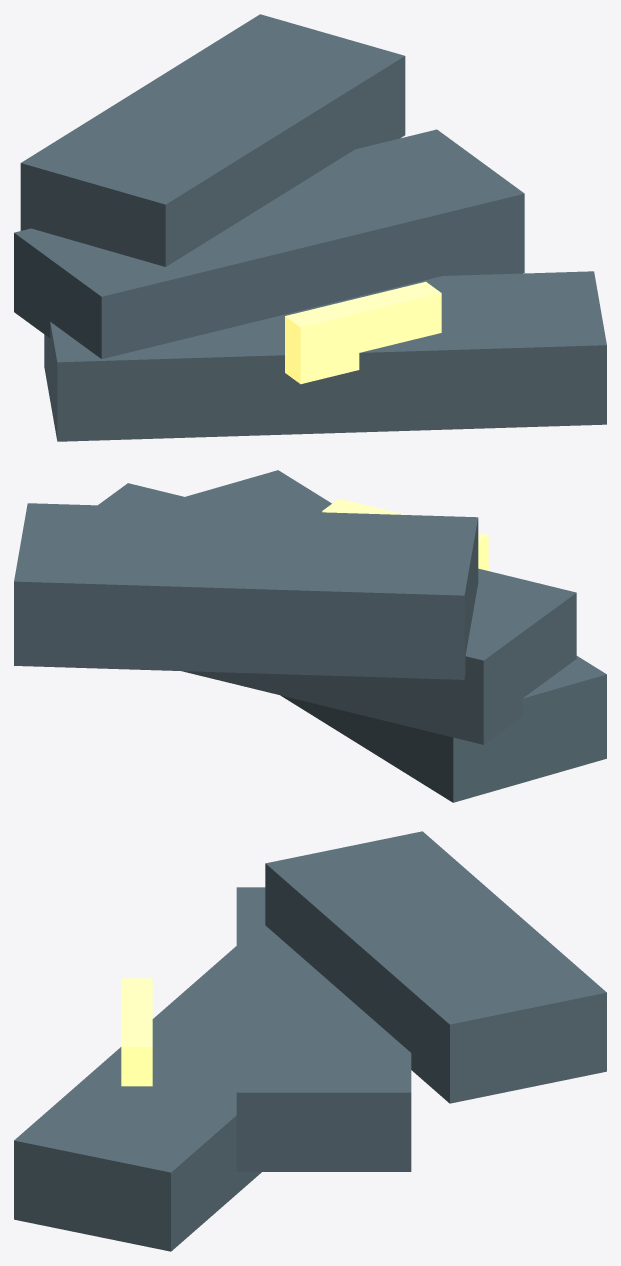
Rendered from scrap.glb.
3 views of the same model, one above another, from view 1: azimuth 30°, elevation 25°; view 2: azimuth 150°, elevation 25°; view 3: azimuth 270°, elevation 25° (orthographic). The views are drawn at different scales.
Visible parts, largest first — view 1: Scrap plate, Scrap plate.001, Scrap plate.002, Salvage marking; view 2: Scrap plate.002, Scrap plate.001, Scrap plate, Salvage marking; view 3: Scrap plate.002, Scrap plate, Scrap plate.001, Salvage marking.
Boxes of the visible parts, x1,y1,x2,y2 form: Scrap plate: (44,271,606,441); Scrap plate.001: (14,129,524,358); Scrap plate.002: (20,14,405,266); Salvage marking: (285,281,441,384); Scrap plate.002: (14,503,478,679); Scrap plate.001: (98,483,576,744); Scrap plate: (185,470,606,802); Salvage marking: (322,498,488,570); Scrap plate.002: (265,831,606,1103); Scrap plate: (14,946,261,1251); Scrap plate.001: (236,887,411,1171); Salvage marking: (121,978,152,1086).
Bounding box in the file's own units: 0.4571 × 0.18 × 0.4757.
